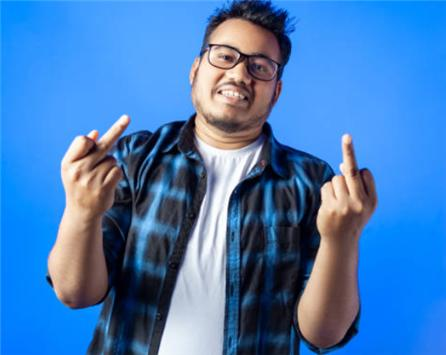insulting_gesture: (55, 111, 132, 212), (311, 131, 380, 240)
